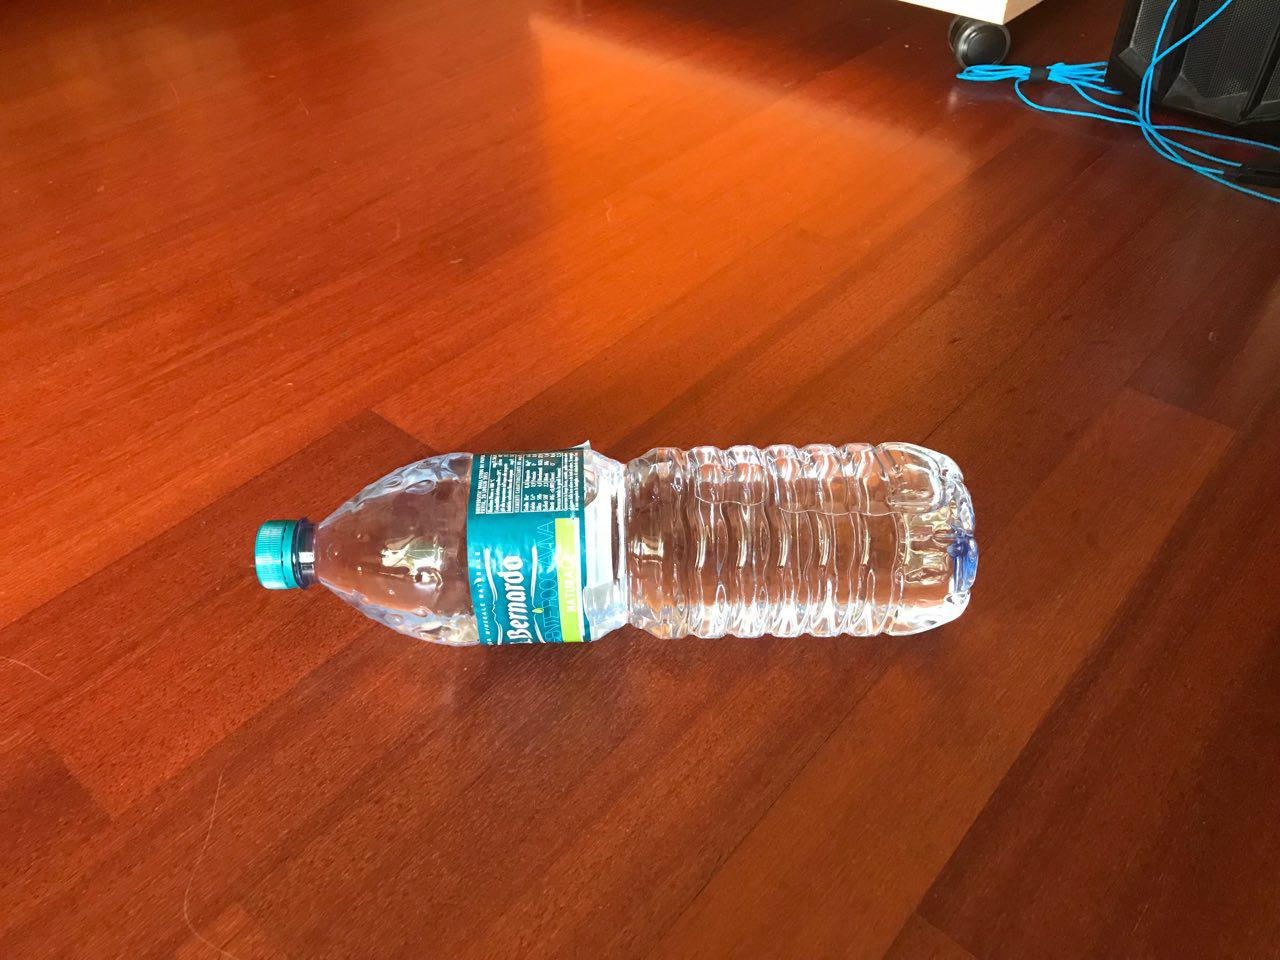san_bernardo: (252, 438, 981, 650)
